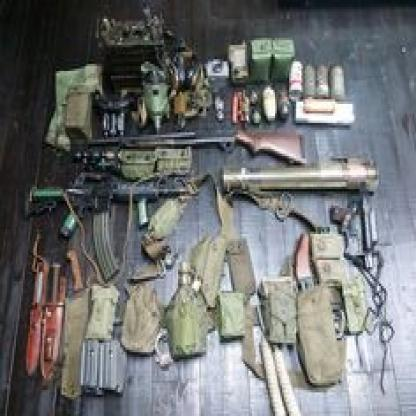Grenade: (288, 57, 304, 101), (329, 61, 346, 100), (316, 61, 329, 98), (304, 61, 316, 99), (278, 87, 290, 119), (251, 107, 263, 128), (250, 87, 258, 107)
Gun: (23, 171, 188, 284), (220, 154, 379, 199)
Knife: (41, 261, 64, 380), (24, 267, 45, 376)
